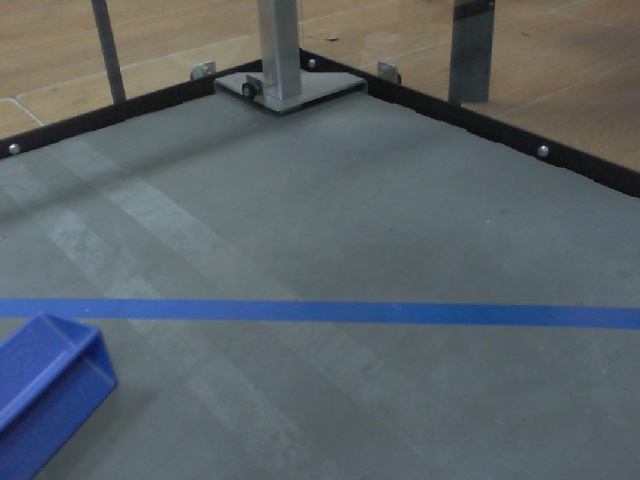BlueSample: (1, 308, 121, 479)
